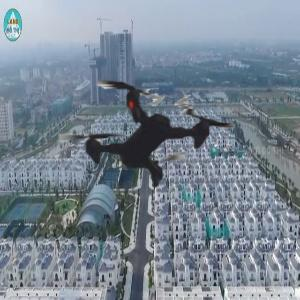drone: (26, 10, 271, 255)
